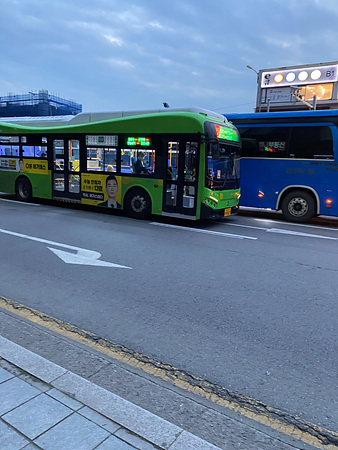entrance: (162, 131, 200, 216)
